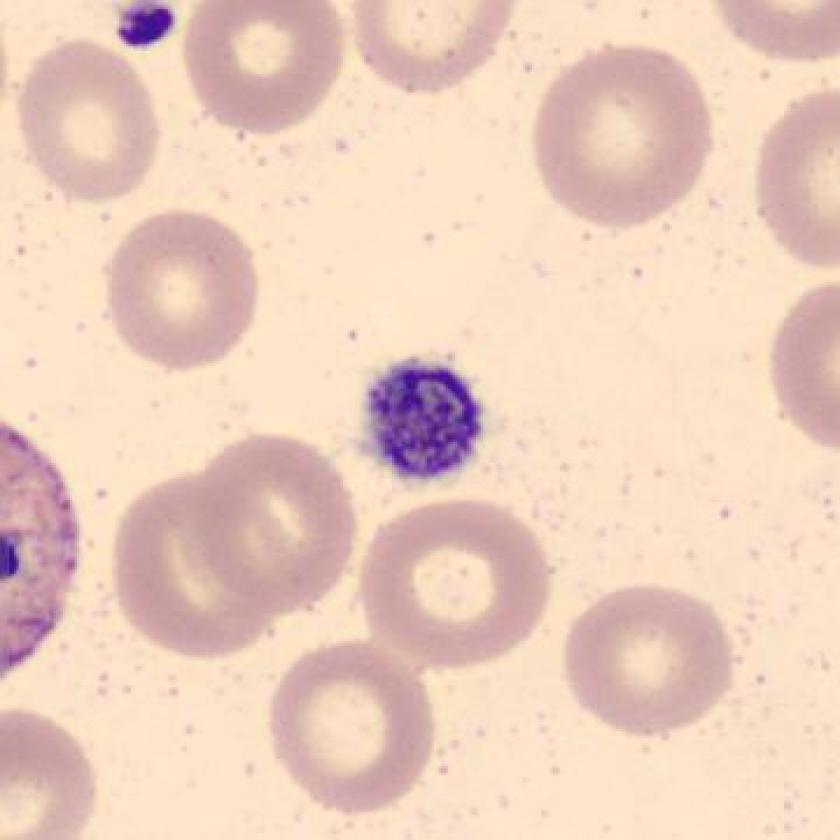platelets: (353, 350, 498, 494), (99, 1, 190, 54)
